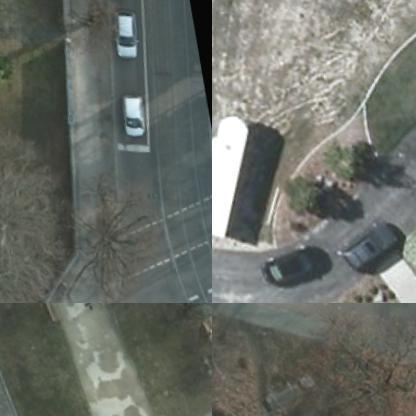camping car: (212, 103, 266, 246)
car: (338, 210, 408, 274), (256, 241, 338, 295), (112, 0, 145, 58), (118, 85, 152, 138)
